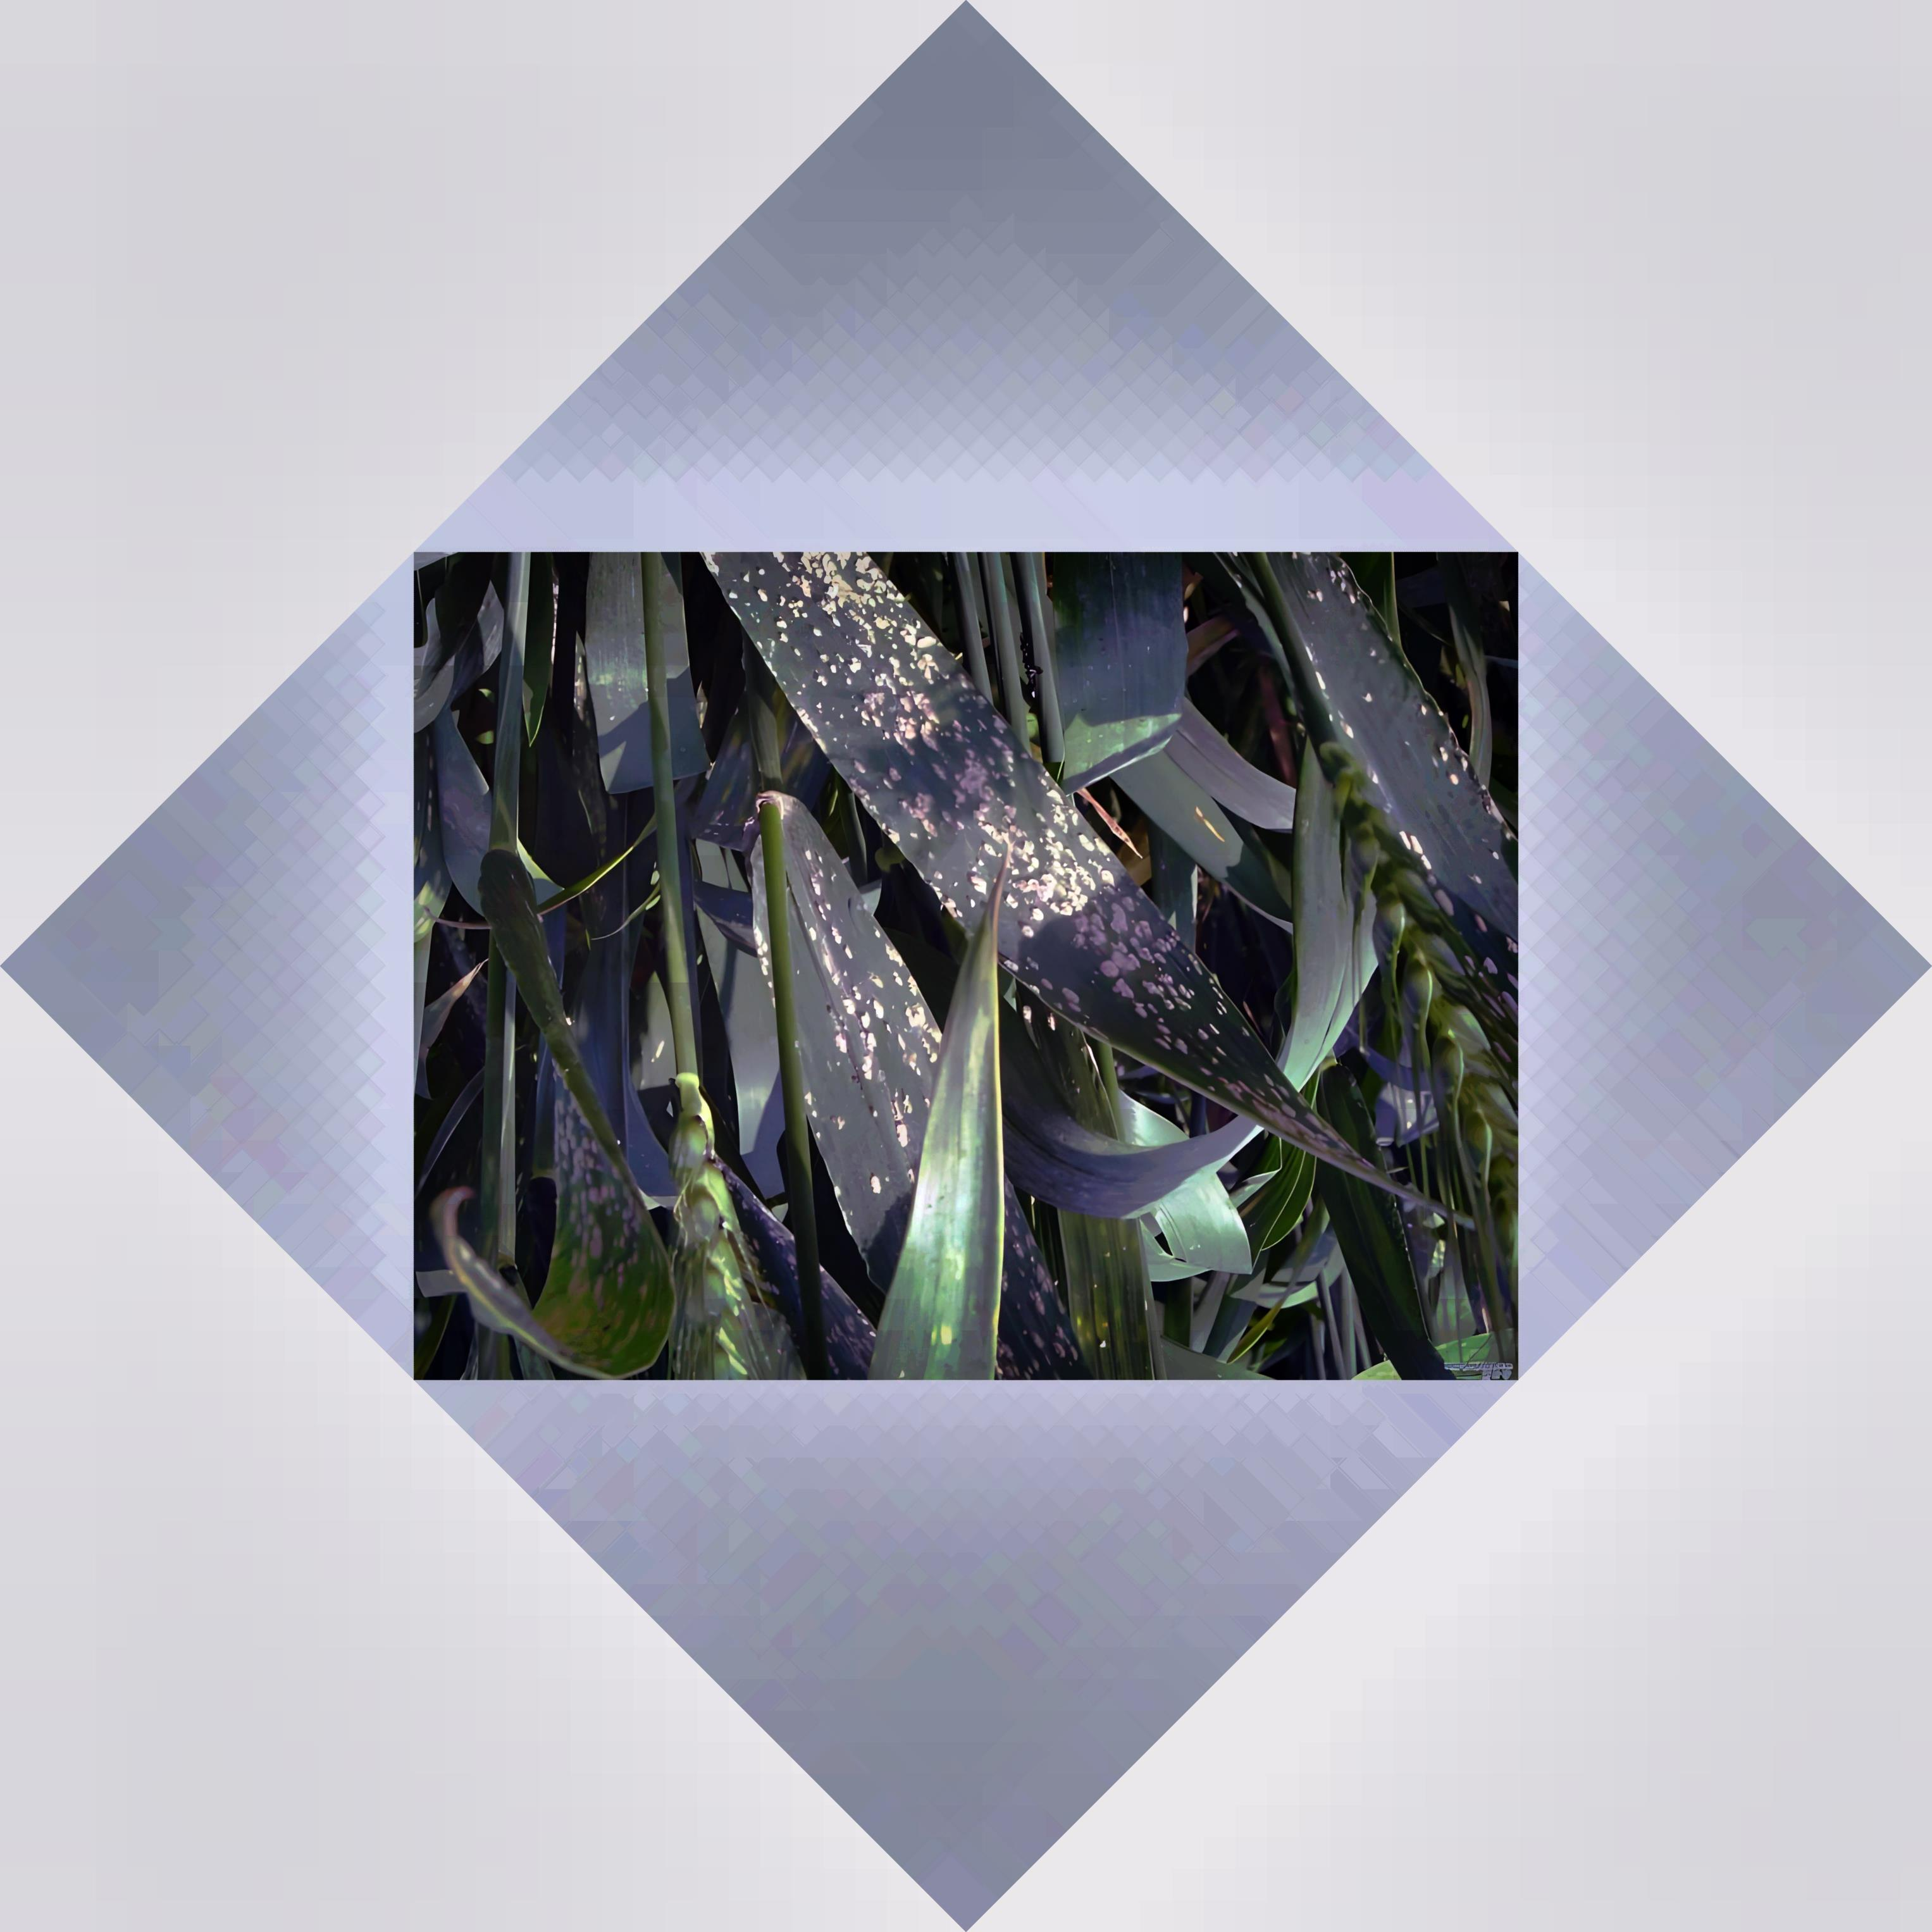Powdery Mildew: (778, 584, 1265, 1086)
